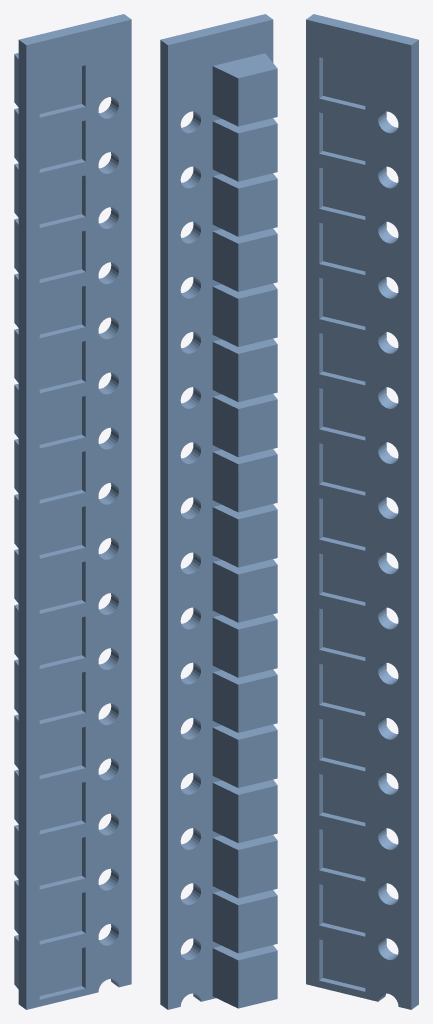
Rendered from feeder_tape.glb.
The picture shows the model from 3 angles, left to right: view 1: azimuth 30°, elevation 25°; view 2: azimuth 210°, elevation 25°; view 3: azimuth 330°, elevation 25°; orthographic projection.
Parts seen in each view (by area): view 1: pt_62#0; view 2: pt_62#0; view 3: pt_62#0.
Part boxes in pixels (x1,y1,x2,y2): pt_62#0: (14,14,131,1009); pt_62#0: (160,14,277,1009); pt_62#0: (306,14,418,1009).
Size of the model in its own units: 0.008 by 0.07 by 0.0035.
